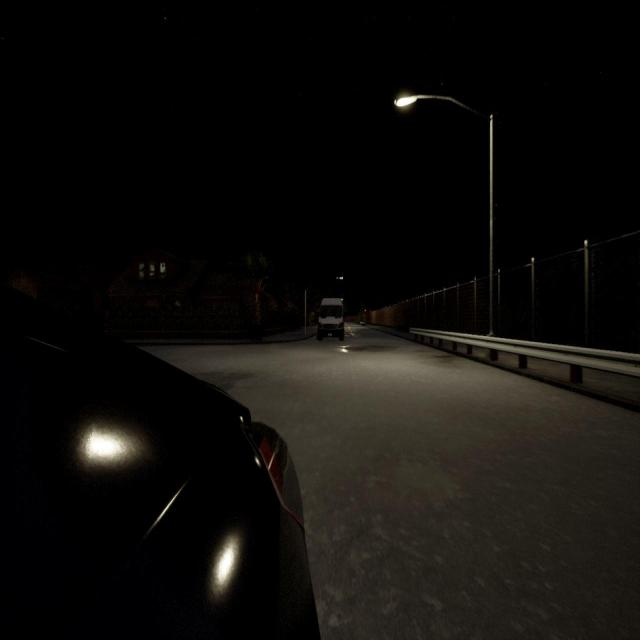Vehicle: (0, 286, 319, 637), (315, 298, 346, 341)
traffic_light: (364, 309, 366, 316)
